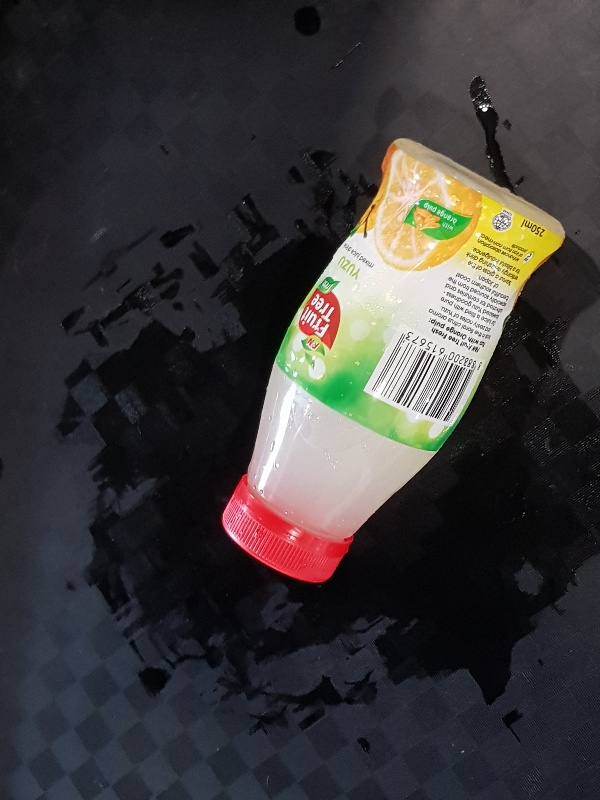Fruit Tree Yuzu Mixed Juice Drink: (217, 135, 565, 584)
